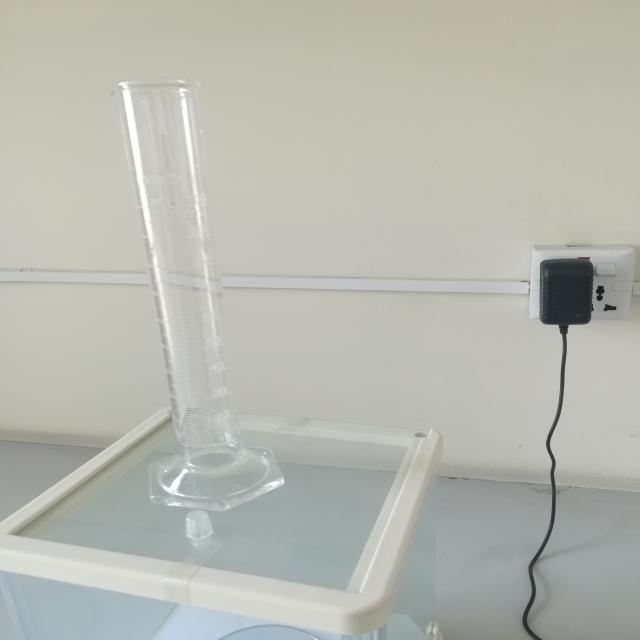Measuring_Cylinder: (78, 31, 314, 528)
